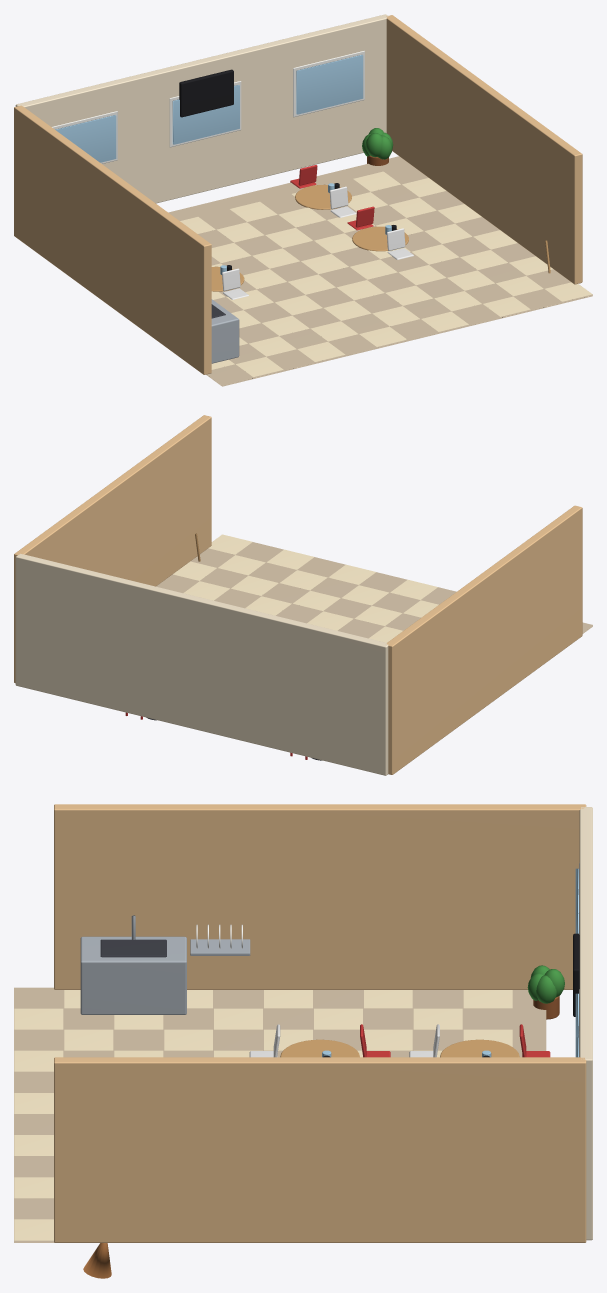
File: diner.glb
3 views of the same model, one above another, from view 1: azimuth 30°, elevation 25°; view 2: azimuth 150°, elevation 25°; view 3: azimuth 270°, elevation 25° (orthographic). The views are drawn at different scales.
Parts seen in each view (by area): view 1: Floor, BackWall, WallL, WallR, Window.002, Window.001, TV, Window, Sink, Plant, Table4, Table2 (+5 smaller); view 2: BackWall, WallL, WallR, Floor; view 3: WallR, WallL, Floor, Sink, BackWall, Plant2, SinkBasin, Table1, Table3, DishRack, Walis.
Part boxes in pixels (<box>): Floor: <box>168,156,592,386</box>; BackWall: <box>15,14,388,203</box>; WallL: <box>14,105,211,374</box>; WallR: <box>386,15,582,284</box>; Window.002: <box>296,54,363,114</box>; Window.001: <box>172,85,239,144</box>; TV: <box>179,69,233,117</box>; Window: <box>55,115,116,162</box>; Sink: <box>211,299,239,363</box>; Plant: <box>362,128,393,165</box>; Table4: <box>295,183,351,209</box>; Table2: <box>352,225,408,251</box>; BackWall: <box>15,553,388,775</box>; WallL: <box>386,505,582,774</box>; WallR: <box>14,415,211,683</box>; Floor: <box>156,534,592,642</box>; WallR: <box>54,1057,586,1242</box>; WallL: <box>54,804,586,989</box>; Floor: <box>14,987,546,1242</box>; Sink: <box>80,936,186,1014</box>; BackWall: <box>579,807,592,1240</box>; Plant2: <box>527,965,564,1019</box>; SinkBasin: <box>100,939,166,957</box>; Table1: <box>280,1039,359,1057</box>; Table3: <box>440,1039,519,1057</box>; DishRack: <box>190,924,250,955</box>; Walis: <box>83,1243,111,1278</box>.
Bounding box in the file's own units: 9.2 × 3.76 × 8.7.
